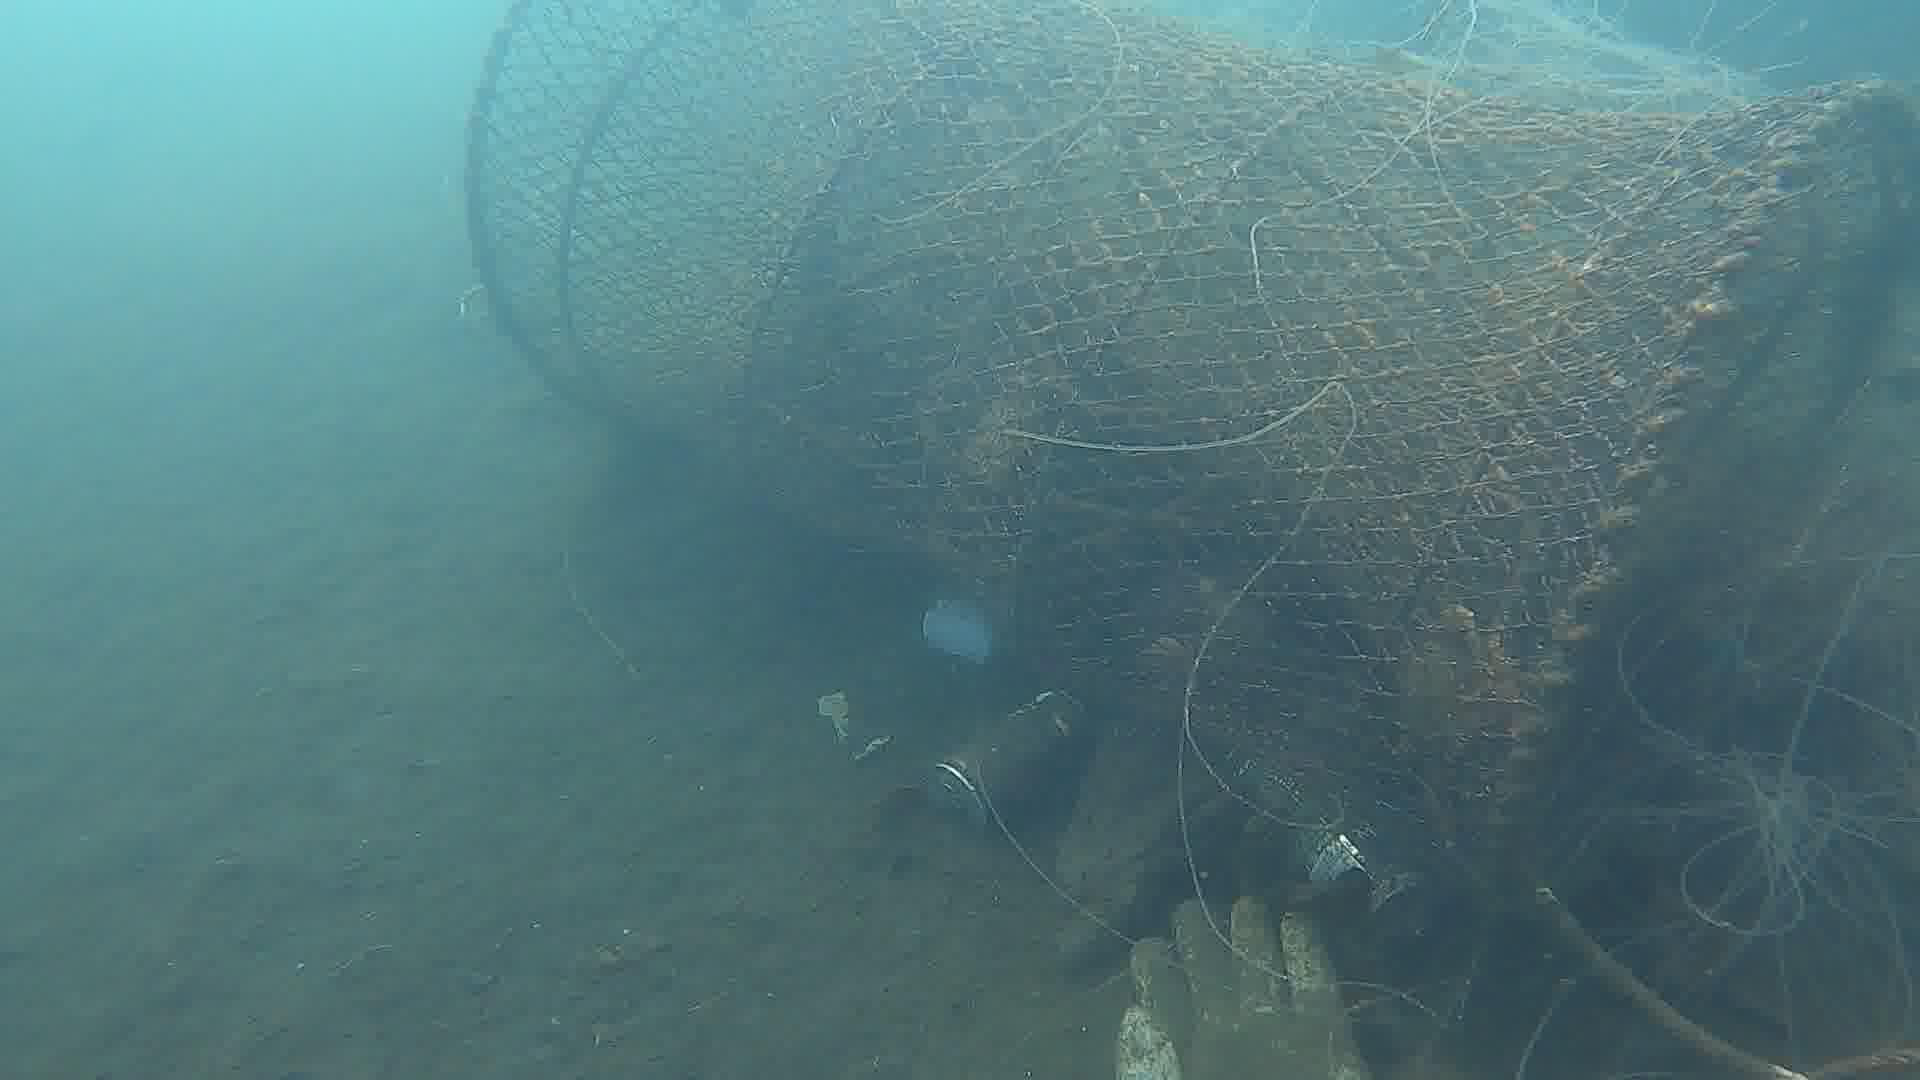spring fish trap: (460, 0, 1920, 899)
